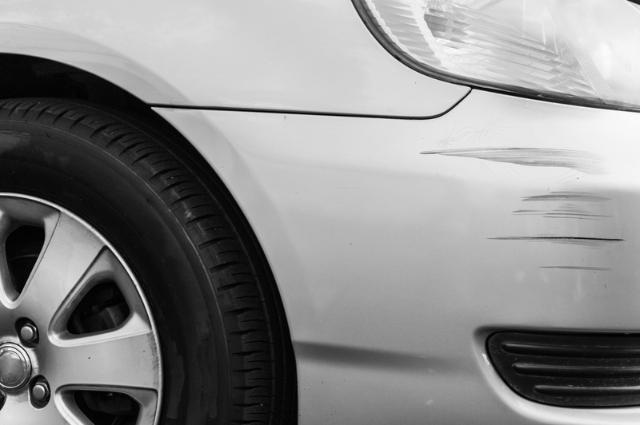Bumper: (398, 126, 634, 288)
